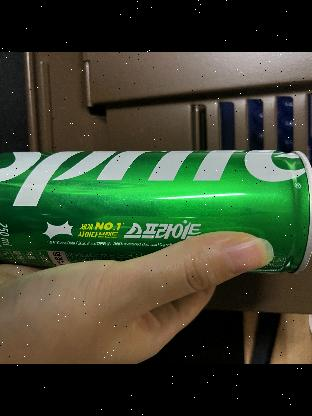Can: (0, 149, 312, 273)
